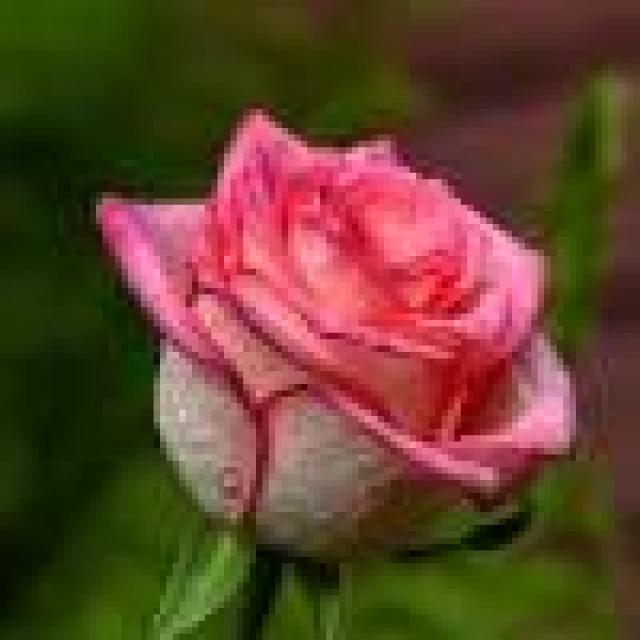rose: (68, 83, 590, 569)
